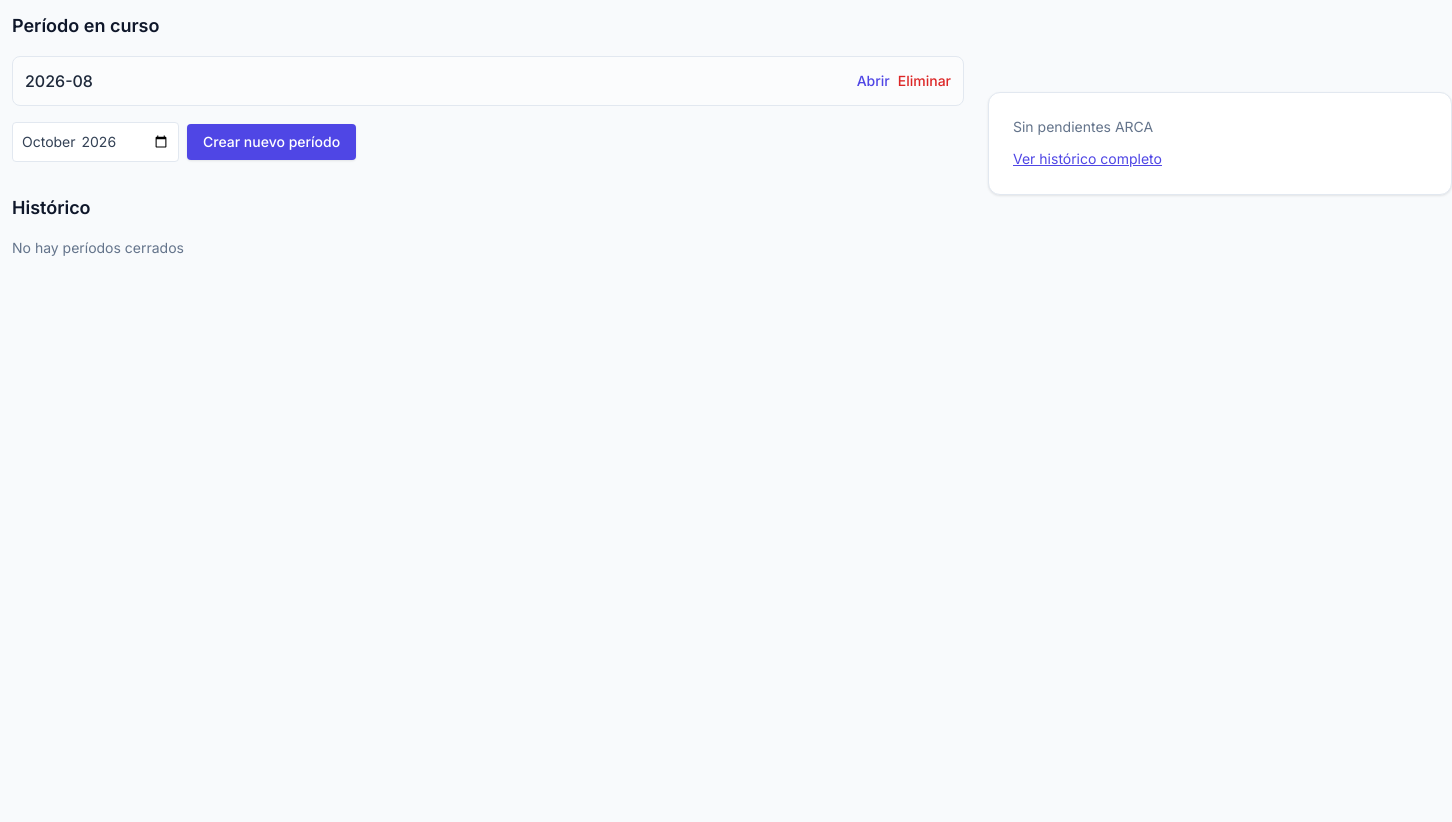
DashboardShell › "Ver histórico completo" abre el viewer como overlay dentro del dashboard, sin salir de la ruta (RF-24, RF-27)
This screenshot has width=1452, height=822.
Click the button "Ver histórico completo" at (1088, 159), box [1013, 149, 1162, 169]
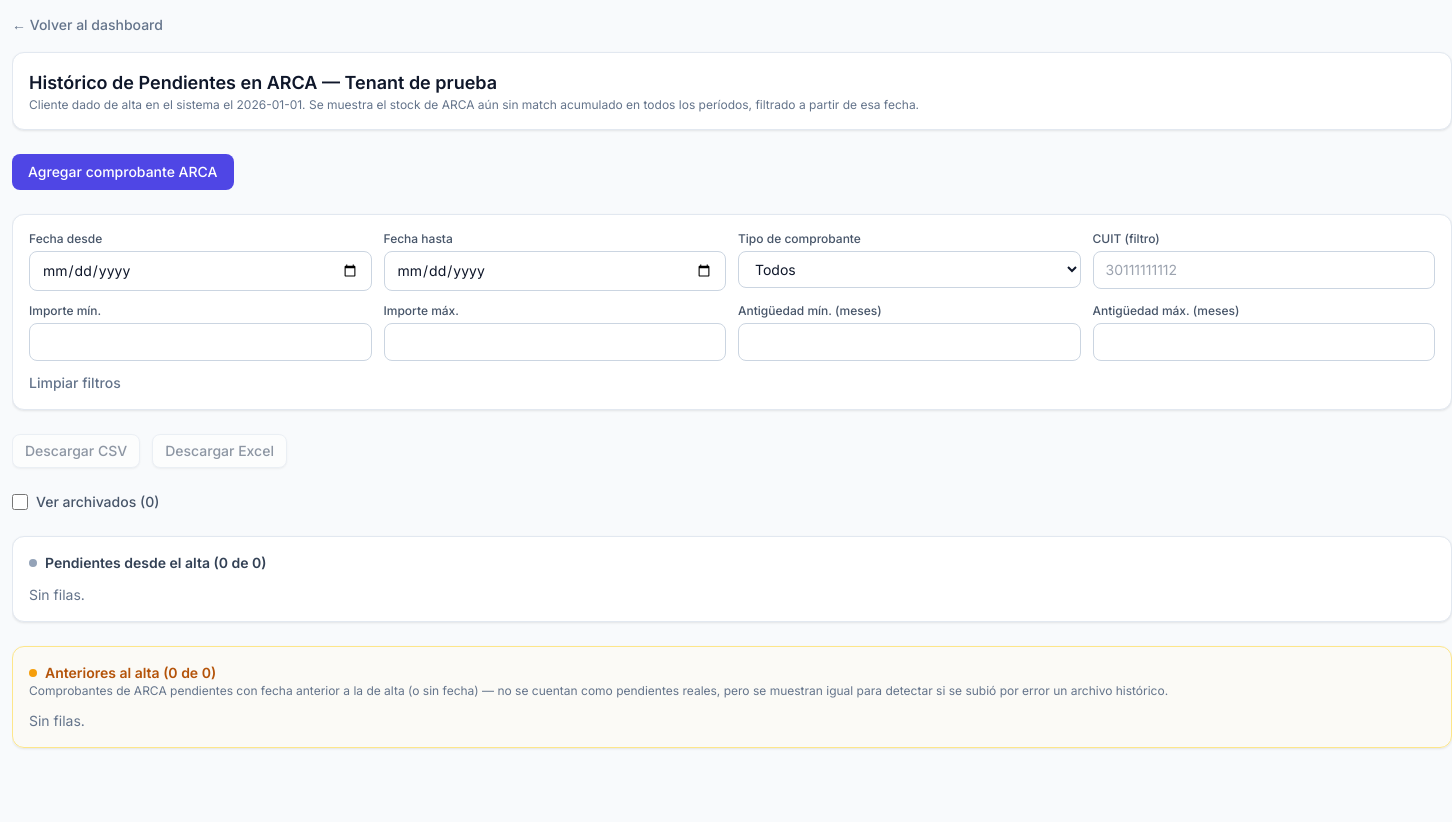
Check: the heading "Histórico de Pendientes en ARCA — Tenant de prueba" is shown, box [29, 72, 497, 93]
Check: the heading "Período en curso" is gone
Click the button "← Volver al dashboard" at (87, 25), box [12, 15, 163, 35]
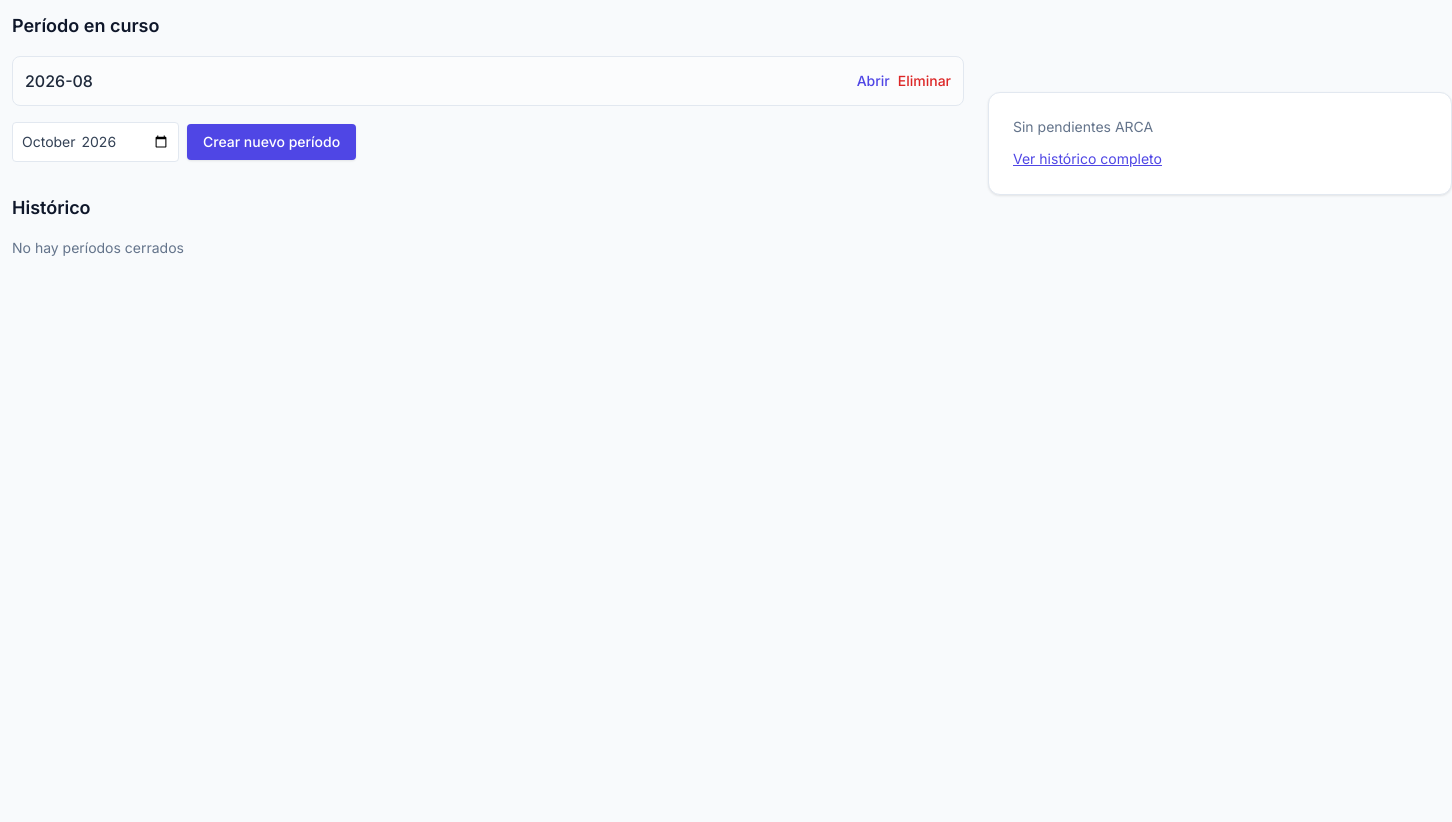
Check: the heading "Período en curso" is shown, box [12, 15, 160, 36]
